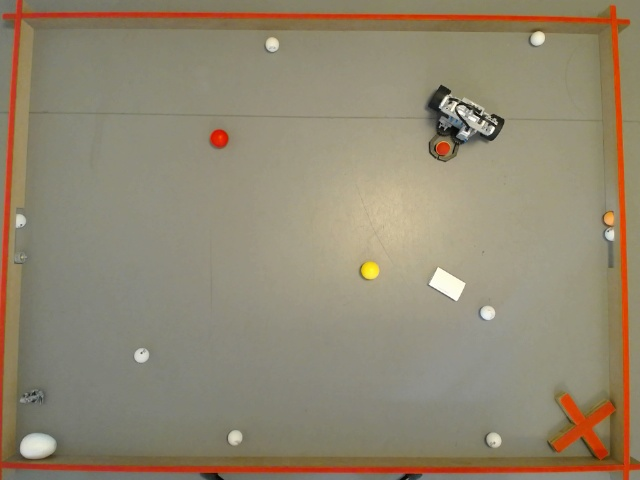big_goal: (6, 206, 24, 266)
cross: (547, 392, 615, 458)
egg: (18, 432, 56, 458)
orange: (602, 210, 612, 222)
robot: (426, 84, 501, 162)
small_goal: (600, 212, 622, 264)
wall: (4, 9, 628, 38), (0, 0, 34, 467), (598, 0, 628, 470), (2, 453, 627, 471)
white: (484, 432, 500, 447), (135, 348, 148, 362), (228, 431, 242, 444), (530, 30, 542, 44), (264, 36, 276, 48), (482, 306, 494, 318), (18, 215, 24, 225), (606, 230, 612, 239)
